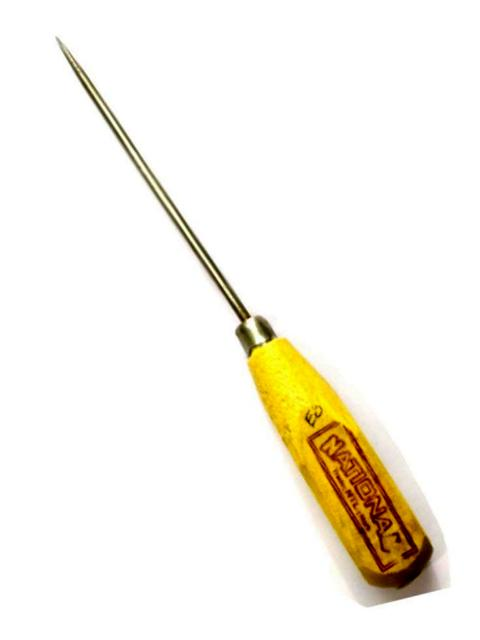ice pick: (56, 36, 436, 590)
